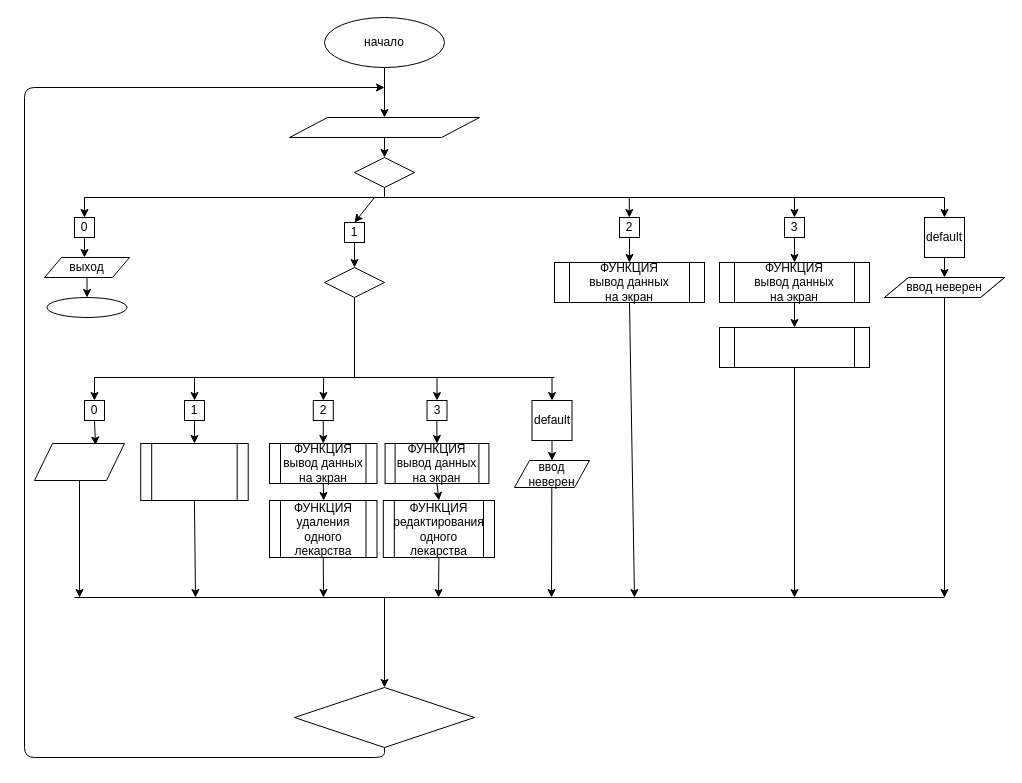
The diagram is 1022 pixels wide and 783 high, and some of its shapes have lost their labels. The shapes that lost their labels are listed below. From the top down, each one's centre as x and y in pixels, then its label:
point (384, 127): ввод выбора
point (384, 172): выбор1
point (354, 282): выбор2
point (86, 307): return 0
point (794, 347): ФУНКЦИЯ для выполнения запроса
point (79, 461): вы вернулись
point (194, 471): ФУНКЦИЯ добавления одного лекарства
point (384, 717): бесконечный цикл
